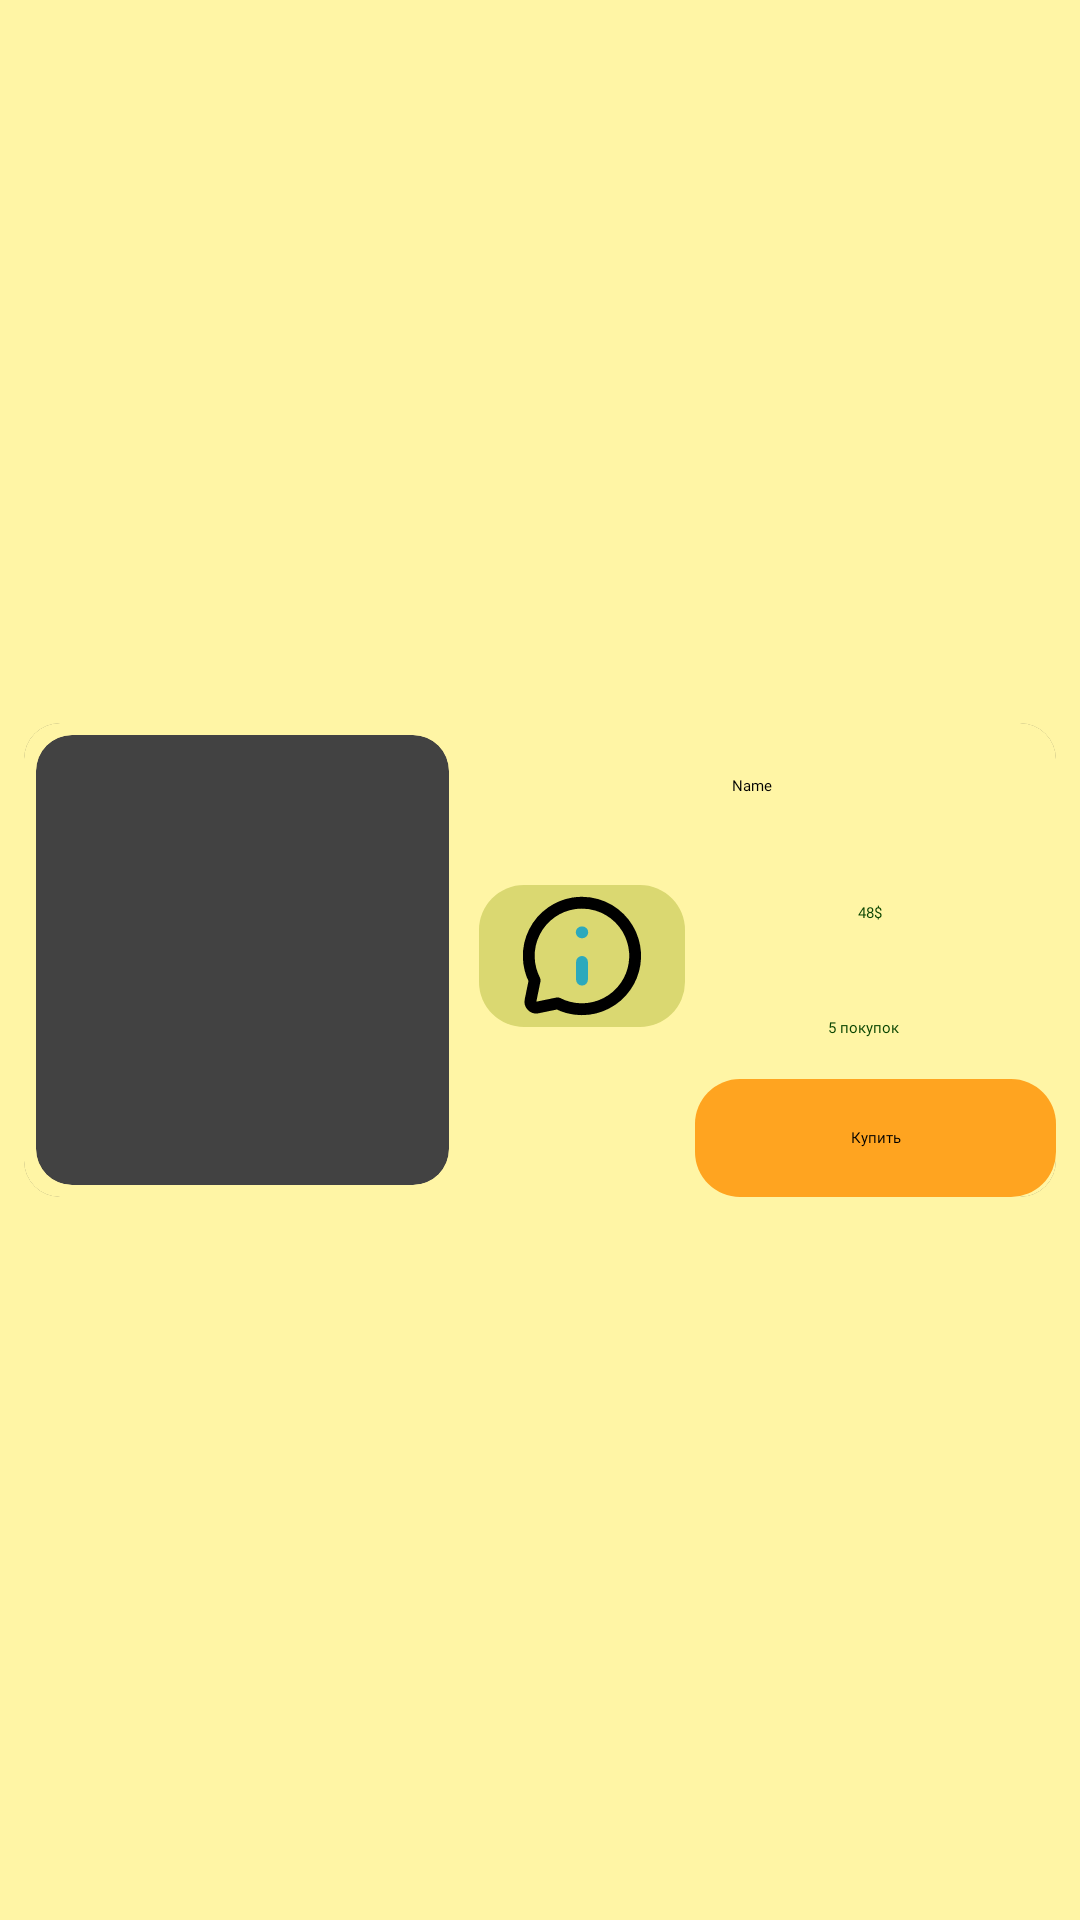

Locate icon controls on the screen. Image size 1080*1920, boxes as (x1, y1, x2, y2).
information chat: (479, 885, 685, 1027)
